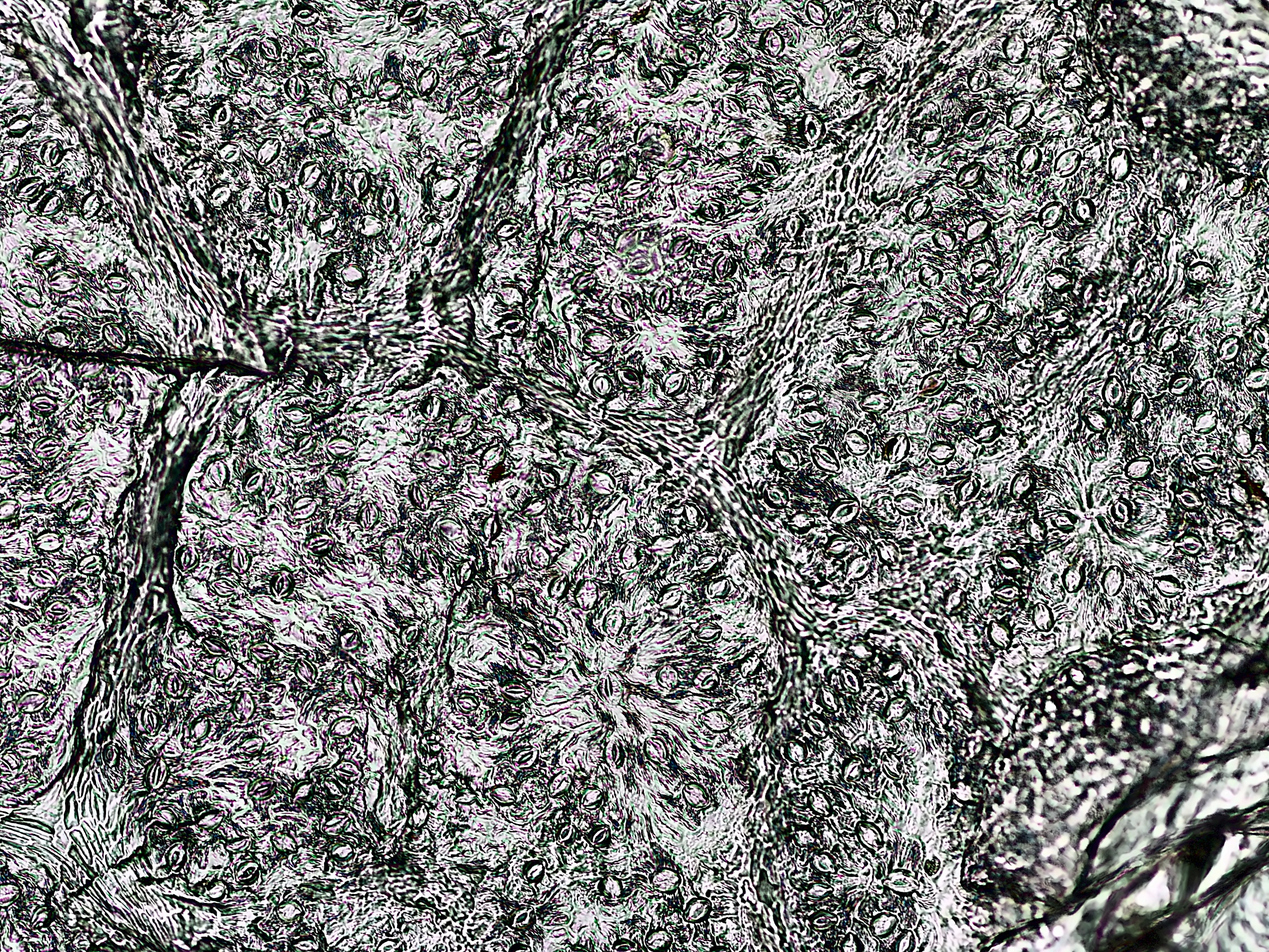stomata: (596, 669, 625, 708), (428, 176, 462, 206), (1172, 531, 1210, 557), (1008, 467, 1036, 502), (903, 191, 934, 222), (1060, 561, 1088, 595), (800, 111, 826, 147), (700, 707, 736, 733), (640, 736, 673, 764), (1103, 147, 1131, 180), (1099, 564, 1127, 597), (866, 910, 900, 937), (884, 868, 922, 892), (143, 755, 168, 791), (681, 780, 711, 810), (1004, 98, 1033, 129), (1150, 209, 1181, 238), (809, 445, 840, 474), (828, 497, 860, 525), (882, 433, 910, 465), (942, 586, 971, 616), (1061, 67, 1094, 93), (989, 619, 1015, 652), (858, 391, 895, 414), (710, 10, 739, 39), (1085, 95, 1115, 123), (1155, 324, 1183, 354), (1216, 334, 1244, 364), (1123, 453, 1153, 481), (1123, 314, 1150, 345), (857, 820, 884, 851), (1046, 34, 1079, 59), (1174, 486, 1207, 511), (356, 215, 390, 239), (1213, 518, 1247, 542), (101, 323, 128, 353), (966, 299, 993, 329), (891, 491, 922, 517), (581, 784, 606, 816), (416, 220, 444, 248), (45, 324, 74, 351), (159, 671, 186, 700), (341, 674, 368, 703), (1003, 31, 1026, 65), (1232, 421, 1255, 455), (159, 59, 189, 85), (299, 160, 325, 190), (759, 27, 784, 58), (869, 247, 894, 278), (1101, 373, 1124, 406), (955, 340, 982, 368), (319, 810, 348, 836), (682, 897, 711, 923), (491, 580, 517, 609), (80, 190, 105, 220), (275, 897, 305, 922), (1154, 572, 1184, 597), (889, 927, 919, 952), (580, 331, 611, 355), (1016, 144, 1040, 175), (482, 43, 514, 66), (233, 690, 256, 722), (44, 476, 71, 503), (1053, 149, 1080, 176), (250, 774, 278, 800), (744, 239, 770, 267), (1189, 258, 1215, 286), (883, 695, 909, 723), (13, 178, 46, 200), (230, 544, 252, 577), (588, 41, 621, 63), (305, 115, 334, 140), (956, 161, 981, 190), (1166, 372, 1195, 397), (952, 476, 981, 501), (915, 123, 945, 147), (338, 264, 369, 287), (650, 869, 681, 892), (1043, 305, 1074, 328), (818, 684, 841, 715), (848, 310, 880, 332), (991, 582, 1023, 604), (67, 499, 93, 526), (662, 371, 688, 398), (657, 582, 684, 608), (774, 447, 801, 473), (927, 437, 954, 463), (1242, 365, 1269, 391), (1083, 409, 1109, 436), (720, 64, 755, 84), (917, 371, 945, 396), (78, 553, 107, 577), (852, 66, 881, 90), (1046, 267, 1075, 291), (1031, 602, 1055, 631), (758, 485, 791, 506), (48, 271, 78, 294), (28, 566, 58, 589), (329, 79, 352, 109), (358, 501, 381, 531), (835, 282, 865, 305), (18, 690, 49, 712), (382, 536, 404, 567), (712, 250, 734, 281), (968, 219, 994, 245), (1111, 499, 1137, 525), (756, 152, 781, 179), (271, 830, 298, 855), (846, 430, 871, 457), (256, 138, 280, 166), (398, 1, 426, 25), (771, 78, 799, 102), (610, 294, 634, 322), (1224, 172, 1248, 200), (971, 258, 999, 282), (177, 545, 200, 574), (458, 16, 487, 39), (659, 64, 681, 94), (876, 7, 898, 37), (327, 436, 357, 458), (211, 654, 233, 684), (832, 932, 865, 952), (286, 71, 307, 102), (271, 570, 292, 601), (198, 808, 224, 833), (238, 733, 264, 758), (289, 778, 314, 804), (504, 678, 530, 703), (541, 617, 567, 642), (655, 664, 680, 690), (719, 95, 746, 119), (738, 183, 765, 207), (510, 905, 534, 932), (534, 330, 558, 357), (1014, 331, 1038, 358), (1025, 514, 1049, 541), (996, 548, 1023, 572), (784, 739, 808, 766), (33, 437, 61, 460), (937, 399, 965, 422), (1134, 597, 1157, 625), (882, 751, 905, 779), (268, 185, 288, 217), (605, 606, 625, 638), (294, 656, 316, 685), (916, 315, 945, 337), (931, 701, 952, 731), (30, 904, 55, 929), (292, 494, 317, 519), (449, 415, 474, 440), (699, 199, 725, 223), (407, 803, 431, 829), (520, 642, 544, 668), (644, 928, 670, 952), (976, 419, 1000, 445), (737, 653, 761, 679), (880, 659, 906, 683), (808, 790, 832, 816), (16, 285, 43, 308), (330, 840, 357, 863), (519, 494, 546, 517), (846, 557, 869, 584), (349, 170, 371, 198), (620, 177, 648, 199), (809, 910, 837, 932), (416, 67, 437, 96), (1040, 201, 1061, 230), (4, 112, 29, 136), (678, 44, 702, 69), (593, 157, 617, 182), (292, 433, 316, 458), (248, 641, 278, 661), (549, 770, 574, 794), (617, 363, 641, 388), (967, 66, 991, 91), (1192, 410, 1216, 435), (104, 271, 130, 294), (837, 33, 863, 56), (335, 760, 361, 783), (788, 511, 814, 534), (1227, 480, 1250, 506), (35, 531, 62, 553), (173, 125, 200, 147), (376, 78, 403, 100), (650, 284, 672, 311), (683, 502, 705, 529), (605, 737, 624, 768), (577, 580, 596, 611), (0, 150, 21, 178), (165, 842, 186, 870), (140, 707, 161, 735), (1128, 392, 1149, 420), (1192, 453, 1220, 474), (289, 4, 318, 24), (570, 503, 590, 532), (840, 349, 869, 369), (695, 623, 724, 643), (554, 158, 579, 181), (242, 470, 265, 495), (322, 470, 347, 493), (591, 472, 614, 497), (438, 516, 463, 539), (692, 666, 715, 691), (840, 754, 863, 779), (309, 534, 335, 556), (600, 874, 622, 900), (538, 468, 564, 490), (848, 638, 874, 660), (648, 534, 678, 553), (165, 91, 192, 112), (494, 217, 521, 238), (784, 214, 805, 241), (499, 711, 526, 732), (549, 575, 570, 602), (1075, 196, 1096, 223), (565, 226, 585, 254), (456, 559, 476, 587), (922, 852, 942, 880), (223, 55, 247, 78), (458, 138, 482, 161), (502, 391, 526, 414), (42, 601, 71, 620), (804, 883, 833, 902), (511, 748, 536, 770), (813, 854, 838, 876), (379, 185, 400, 211), (807, 0, 828, 26), (211, 577, 237, 598), (385, 668, 406, 694), (399, 622, 420, 648), (42, 140, 62, 167), (16, 737, 43, 757), (225, 835, 252, 855), (793, 827, 820, 847), (214, 102, 233, 130), (824, 537, 852, 556), (315, 215, 338, 238), (669, 235, 692, 258), (917, 0, 940, 23), (963, 106, 986, 129), (154, 806, 178, 828), (217, 142, 241, 164), (237, 861, 259, 885), (838, 668, 860, 692), (920, 263, 941, 288), (705, 578, 730, 599), (298, 49, 324, 69), (341, 626, 361, 652), (189, 716, 209, 742), (329, 716, 355, 736), (410, 483, 430, 509), (590, 372, 610, 398), (708, 343, 728, 369), (877, 538, 897, 564), (694, 550, 716, 573), (1055, 510, 1077, 533), (104, 399, 125, 423), (0, 882, 21, 906), (528, 544, 549, 568), (38, 198, 63, 218), (33, 244, 58, 264), (33, 395, 58, 415), (78, 360, 104, 379), (102, 743, 121, 769), (284, 405, 310, 424), (202, 633, 228, 652), (422, 395, 441, 421), (658, 167, 685, 185), (703, 299, 725, 321), (934, 229, 956, 251), (493, 784, 516, 805), (590, 825, 611, 848), (805, 714, 826, 737), (801, 407, 829, 424), (482, 515, 501, 540), (209, 460, 227, 486), (675, 0, 706, 15), (573, 272, 595, 293), (950, 780, 971, 802), (259, 36, 279, 59), (496, 316, 523, 333), (453, 695, 477, 714), (457, 85, 482, 103), (483, 444, 501, 469), (324, 778, 344, 800), (0, 499, 19, 522), (184, 160, 207, 179), (622, 537, 636, 568), (204, 882, 228, 900), (1253, 323, 1269, 350), (1129, 254, 1146, 279), (250, 235, 272, 254), (524, 860, 543, 882), (421, 725, 439, 748), (0, 410, 17, 434), (0, 458, 20, 478), (1068, 663, 1087, 684), (796, 383, 818, 401), (629, 257, 652, 274), (571, 95, 595, 111), (209, 185, 229, 204), (557, 823, 573, 846), (778, 253, 798, 271), (541, 110, 558, 131), (1175, 171, 1192, 192), (292, 938, 317, 952), (0, 366, 14, 390), (379, 934, 397, 952), (457, 788, 474, 807), (614, 938, 634, 952), (0, 666, 11, 690)
